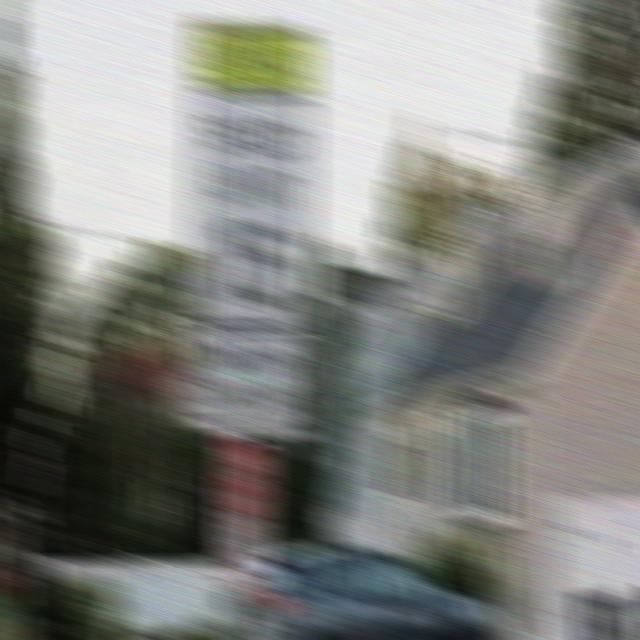speedLimit15: (192, 88, 309, 332)
